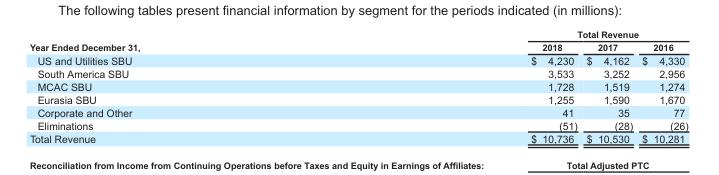table: (28, 29, 687, 143)
table column: (28, 29, 334, 143), (334, 29, 581, 143), (581, 29, 636, 143), (636, 29, 687, 143)
table column header: (28, 29, 687, 53)
table row: (28, 53, 687, 67), (28, 40, 687, 53), (28, 79, 687, 92), (28, 92, 687, 105), (28, 105, 687, 118), (28, 118, 687, 131), (28, 67, 687, 79), (28, 131, 687, 143), (28, 29, 687, 40)
table spanning cell: (28, 29, 334, 53), (334, 29, 687, 40)
